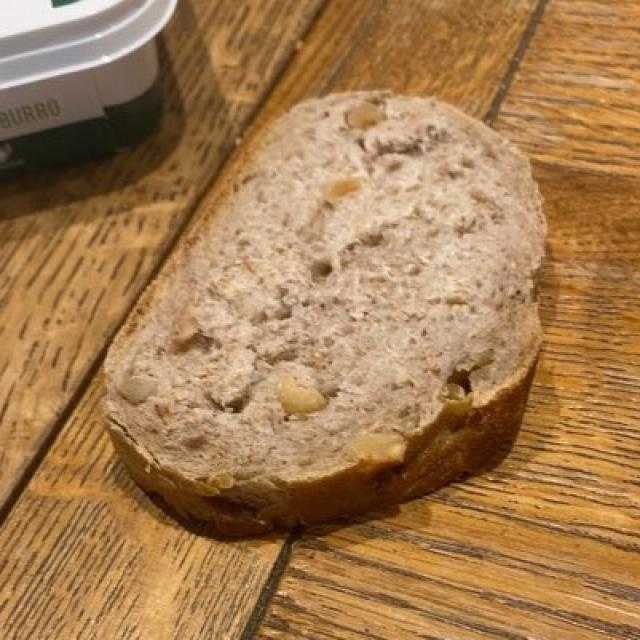bread-nut: (114, 98, 542, 522)
